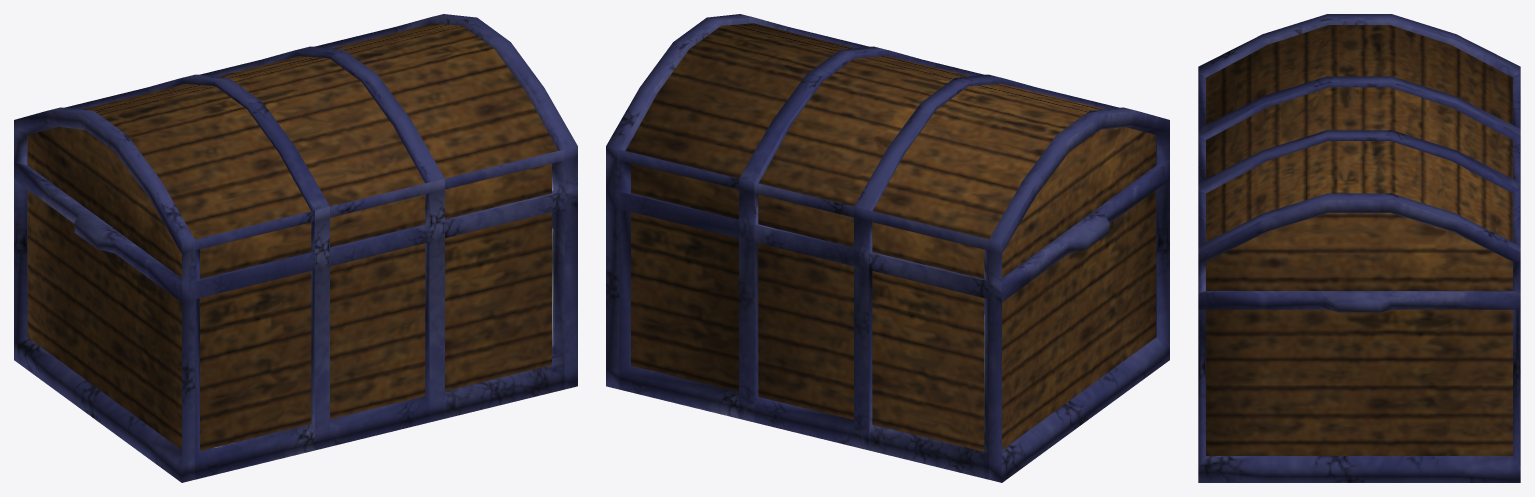
The model's file is Bau.fbx.
3 views of the same model, side by side, from view 1: azimuth 30°, elevation 25°; view 2: azimuth 150°, elevation 25°; view 3: azimuth 270°, elevation 25° (orthographic). The views are drawn at different scales.
Visible parts, largest first — view 1: WoodenChest; view 2: WoodenChest; view 3: WoodenChest.
Part boxes in pixels (x1,y1,x2,y2): WoodenChest: (14, 14, 577, 482); WoodenChest: (606, 14, 1169, 482); WoodenChest: (1198, 14, 1520, 482).
Size of the model in its own units: 596 by 399 by 412.
